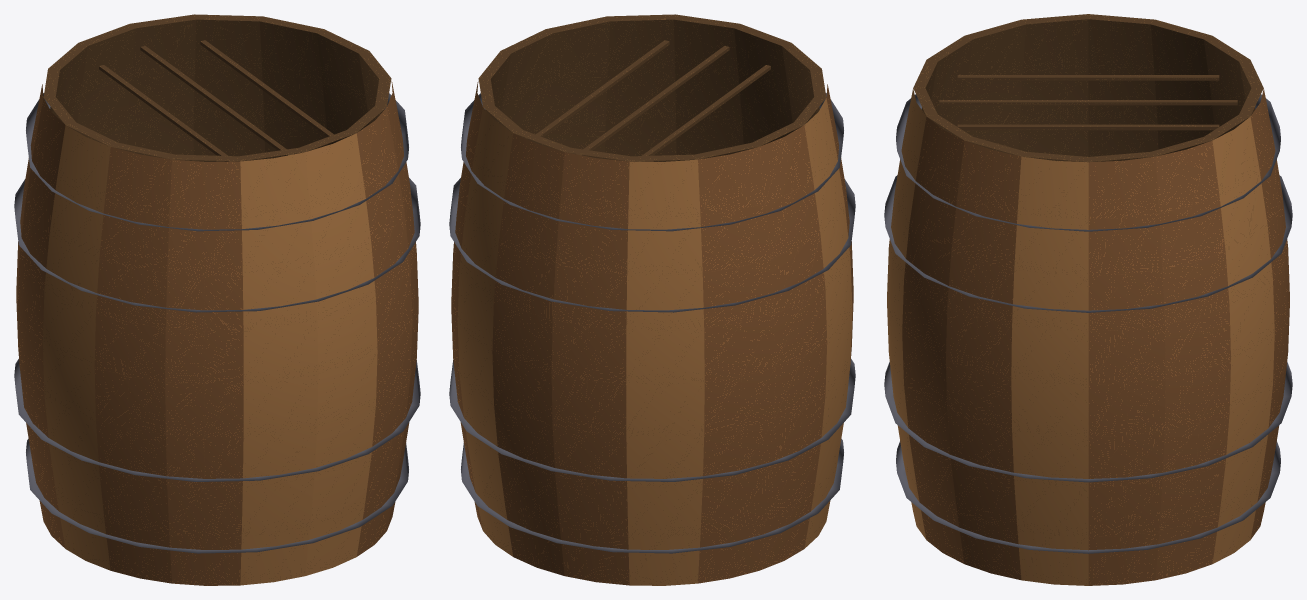
The model's file is barrel.glb.
The picture shows the model from 3 angles, left to right: view 1: azimuth 30°, elevation 25°; view 2: azimuth 150°, elevation 25°; view 3: azimuth 270°, elevation 25°; orthographic projection.
Visible parts, largest first — view 1: prop_barrel; view 2: prop_barrel; view 3: prop_barrel.
Part boxes in pixels (x1,y1,x2,y2): prop_barrel: [14, 14, 420, 585]; prop_barrel: [449, 14, 855, 585]; prop_barrel: [884, 14, 1292, 585].
Size of the model in its own units: 1.4 by 1.6 by 1.4.
1 material, 1 textured.
